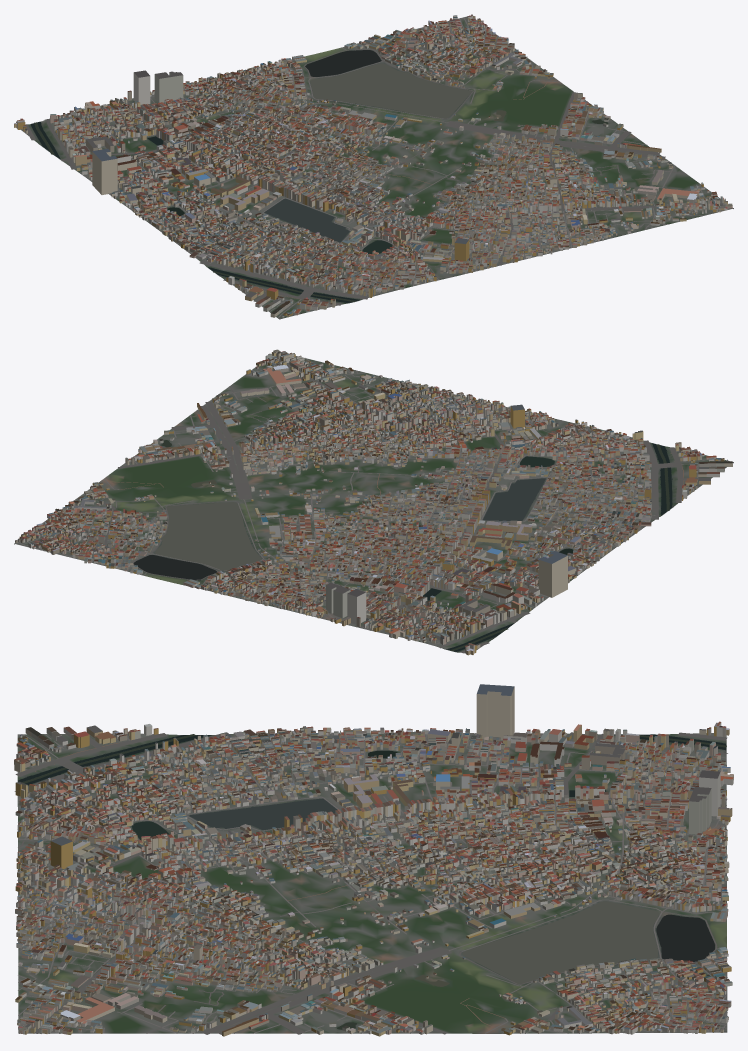
The picture shows the model from 3 angles, top to bottom: view 1: azimuth 30°, elevation 25°; view 2: azimuth 150°, elevation 25°; view 3: azimuth 270°, elevation 25°; orthographic projection. The views are drawn at different scales.
Visible parts, largest first — view 1: buildings, ground, water, roads; view 2: buildings, ground, water, roads; view 3: buildings, ground, water, roads.
Part boxes in pixels (box(x1,y1,x2,y2)): buildings: box(14, 14, 732, 317); ground: box(20, 16, 733, 319); water: box(31, 50, 608, 302); roads: box(25, 17, 733, 318); buildings: box(15, 349, 732, 655); ground: box(14, 356, 733, 654); water: box(133, 440, 672, 651); roads: box(17, 358, 711, 653); buildings: box(14, 684, 733, 1036); ground: box(17, 732, 727, 1033); water: box(18, 734, 726, 1029); roads: box(14, 732, 727, 1034).
Bounding box in the file's own units: 1432 × 106 × 1424.
